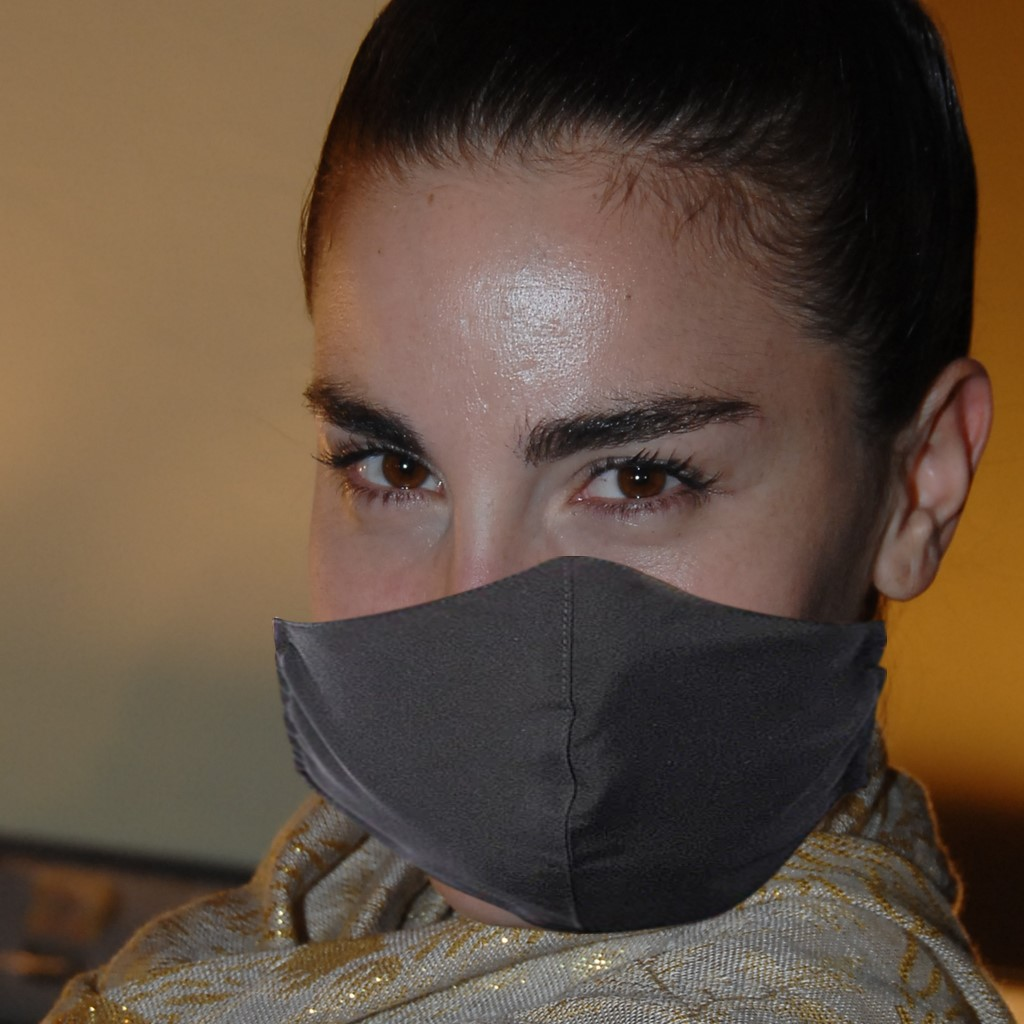con_mascara: (263, 93, 858, 900)
